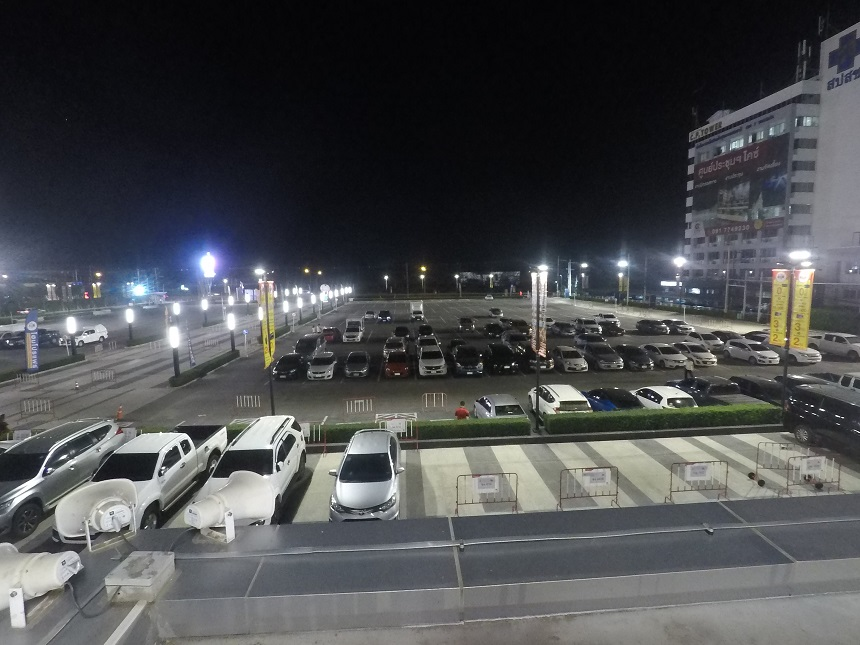busy: (337, 444, 397, 512), (123, 439, 202, 483), (19, 429, 96, 468), (224, 426, 292, 467), (795, 400, 860, 435), (685, 373, 734, 401), (636, 381, 681, 404), (476, 392, 518, 415), (538, 389, 580, 412), (587, 384, 626, 406), (747, 374, 781, 396), (787, 373, 824, 393), (595, 349, 626, 370), (304, 360, 334, 380), (345, 356, 372, 378), (381, 361, 412, 380), (488, 355, 519, 374), (561, 354, 589, 373), (525, 353, 554, 371), (830, 335, 859, 353), (833, 371, 860, 390), (420, 357, 447, 376), (630, 351, 653, 372), (457, 355, 483, 373), (273, 358, 296, 378), (659, 352, 688, 367), (695, 351, 719, 369), (753, 347, 779, 363), (793, 345, 816, 361)
